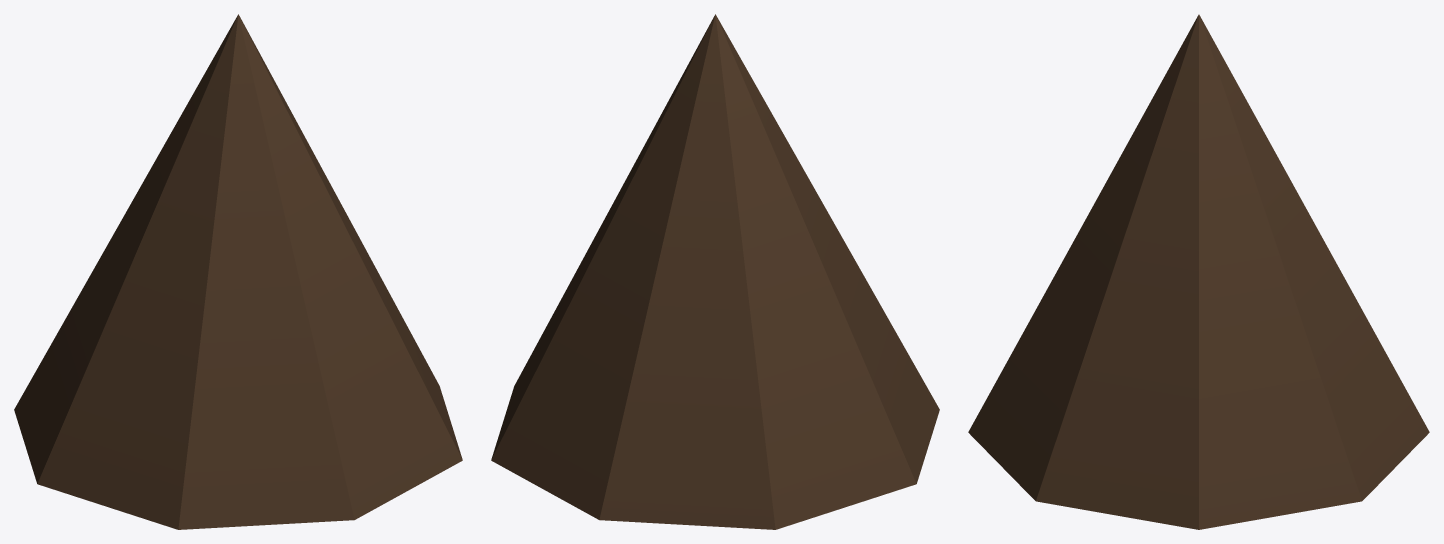
The model's file is Proxy_Spire_Wood.gltf.
3 views of the same model, side by side, from view 1: azimuth 30°, elevation 25°; view 2: azimuth 150°, elevation 25°; view 3: azimuth 270°, elevation 25° (orthographic).
Visible parts, largest first — view 1: Spire_Wood; view 2: Spire_Wood; view 3: Spire_Wood.
Boxes of the visible parts, x1,y1,x2,y2 form: Spire_Wood: (14,14,462,529); Spire_Wood: (491,14,939,529); Spire_Wood: (968,14,1429,529).
Bounding box in the file's own units: 1 × 1 × 1.
